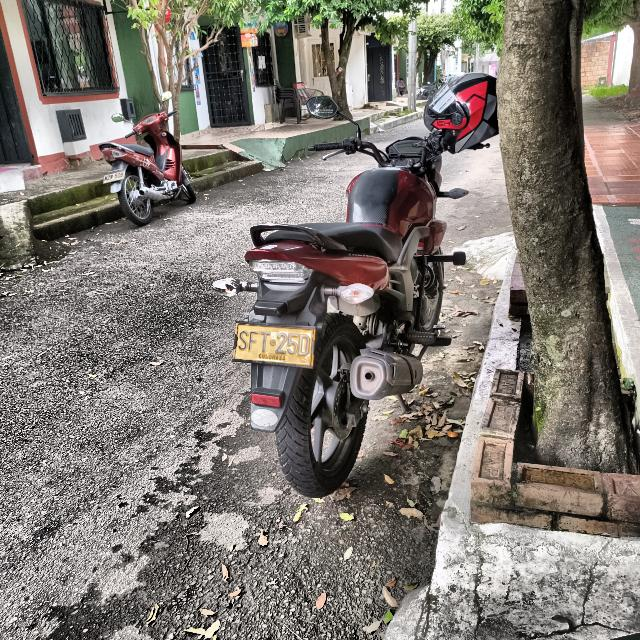plate: (232, 322, 315, 368)
